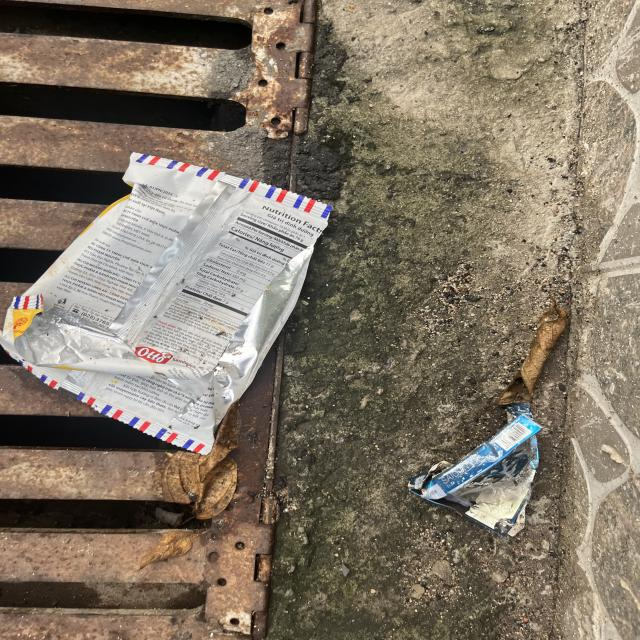snack package: (0, 150, 334, 456)
